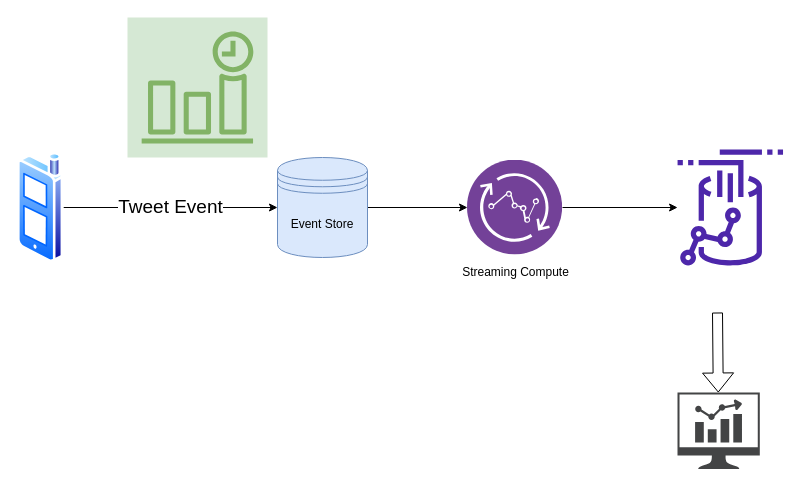
This 800x486 diagram has some shape labels left out. The centre of each missing label's shape, as x and y in pixels:
Event (time- based): (x=197, y=87)
Streaming Sink: (x=730, y=207)
